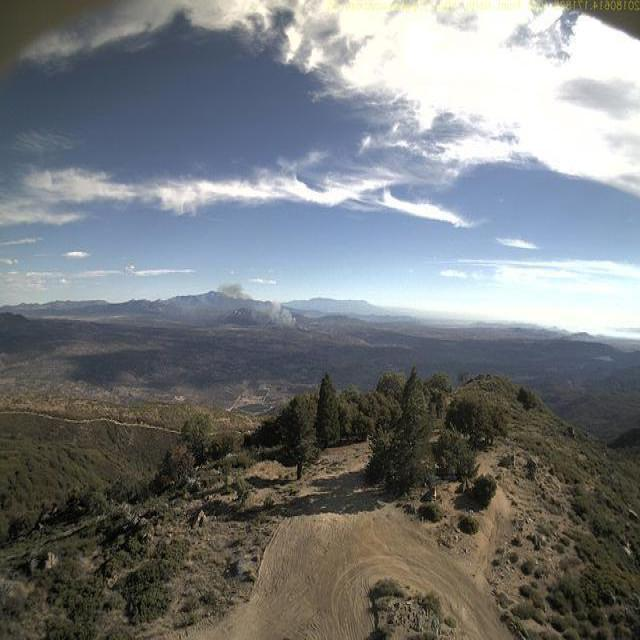Smoke: (215, 280, 317, 335)
